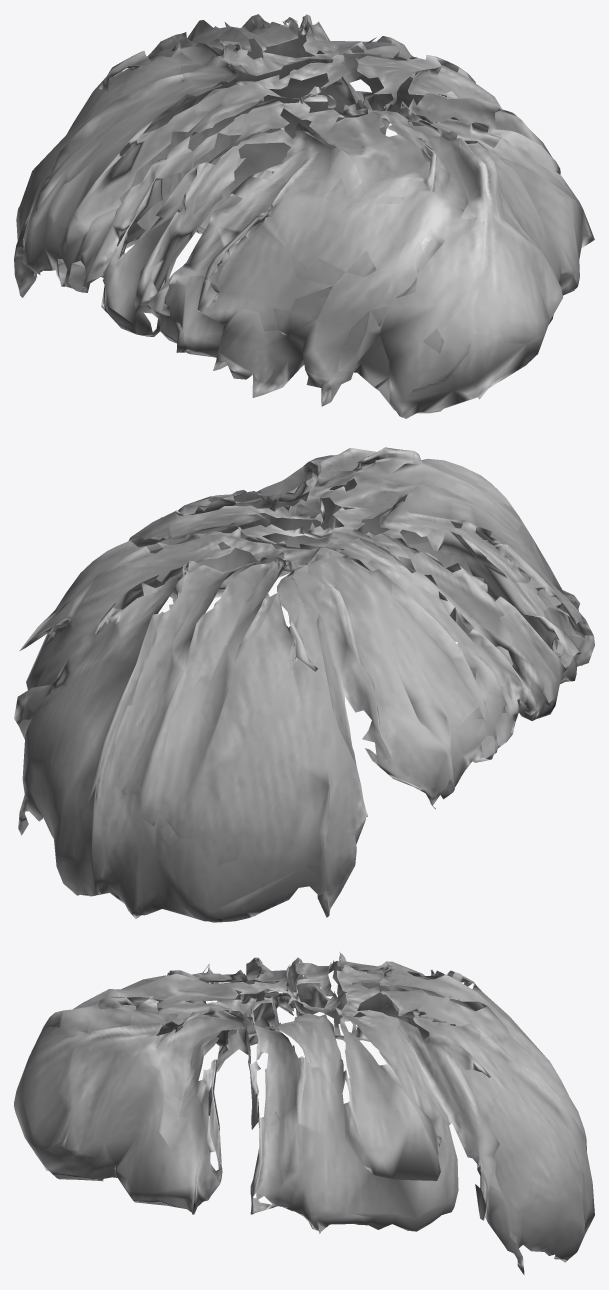
Rendered from fade-crop.glb.
3 renders of one model, top to bottom at view 1: azimuth 30°, elevation 25°; view 2: azimuth 150°, elevation 25°; view 3: azimuth 270°, elevation 25°, orthographic. The views are drawn at different scales.
Parts seen in each view (by area): view 1: fade-crop; view 2: fade-crop; view 3: fade-crop.
Part boxes in pixels (left/top/right/bottom): fade-crop: left=14, top=14, right=594, bottom=418; fade-crop: left=14, top=447, right=594, bottom=922; fade-crop: left=14, top=952, right=594, bottom=1274.
Size of the model in its own units: 0.1698 by 0.105 by 0.2174.
1 material, 1 textured.
